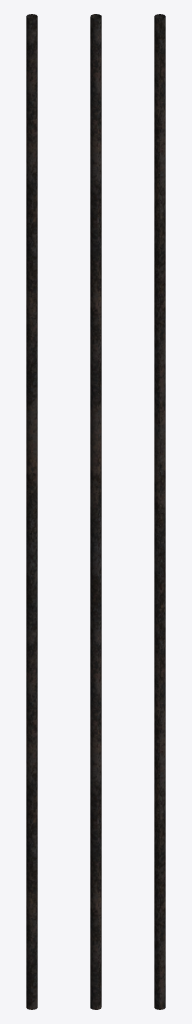
Rendered from HORSE_P_Flag04.FBX.
3 renders of one model, left to right at view 1: azimuth 90°, elevation 25°; view 2: azimuth 150°, elevation 25°; view 3: azimuth 270°, elevation 25°, orthographic.
Parts seen in each view (by area): view 1: HORSE_P_Flag04; view 2: HORSE_P_Flag04; view 3: HORSE_P_Flag04.
Boxes of the visible parts, x1,y1,x2,y2 form: HORSE_P_Flag04: [26, 14, 37, 1009]; HORSE_P_Flag04: [90, 14, 101, 1009]; HORSE_P_Flag04: [154, 14, 165, 1009].
Size of the model in its own units: 4 by 378 by 4.
